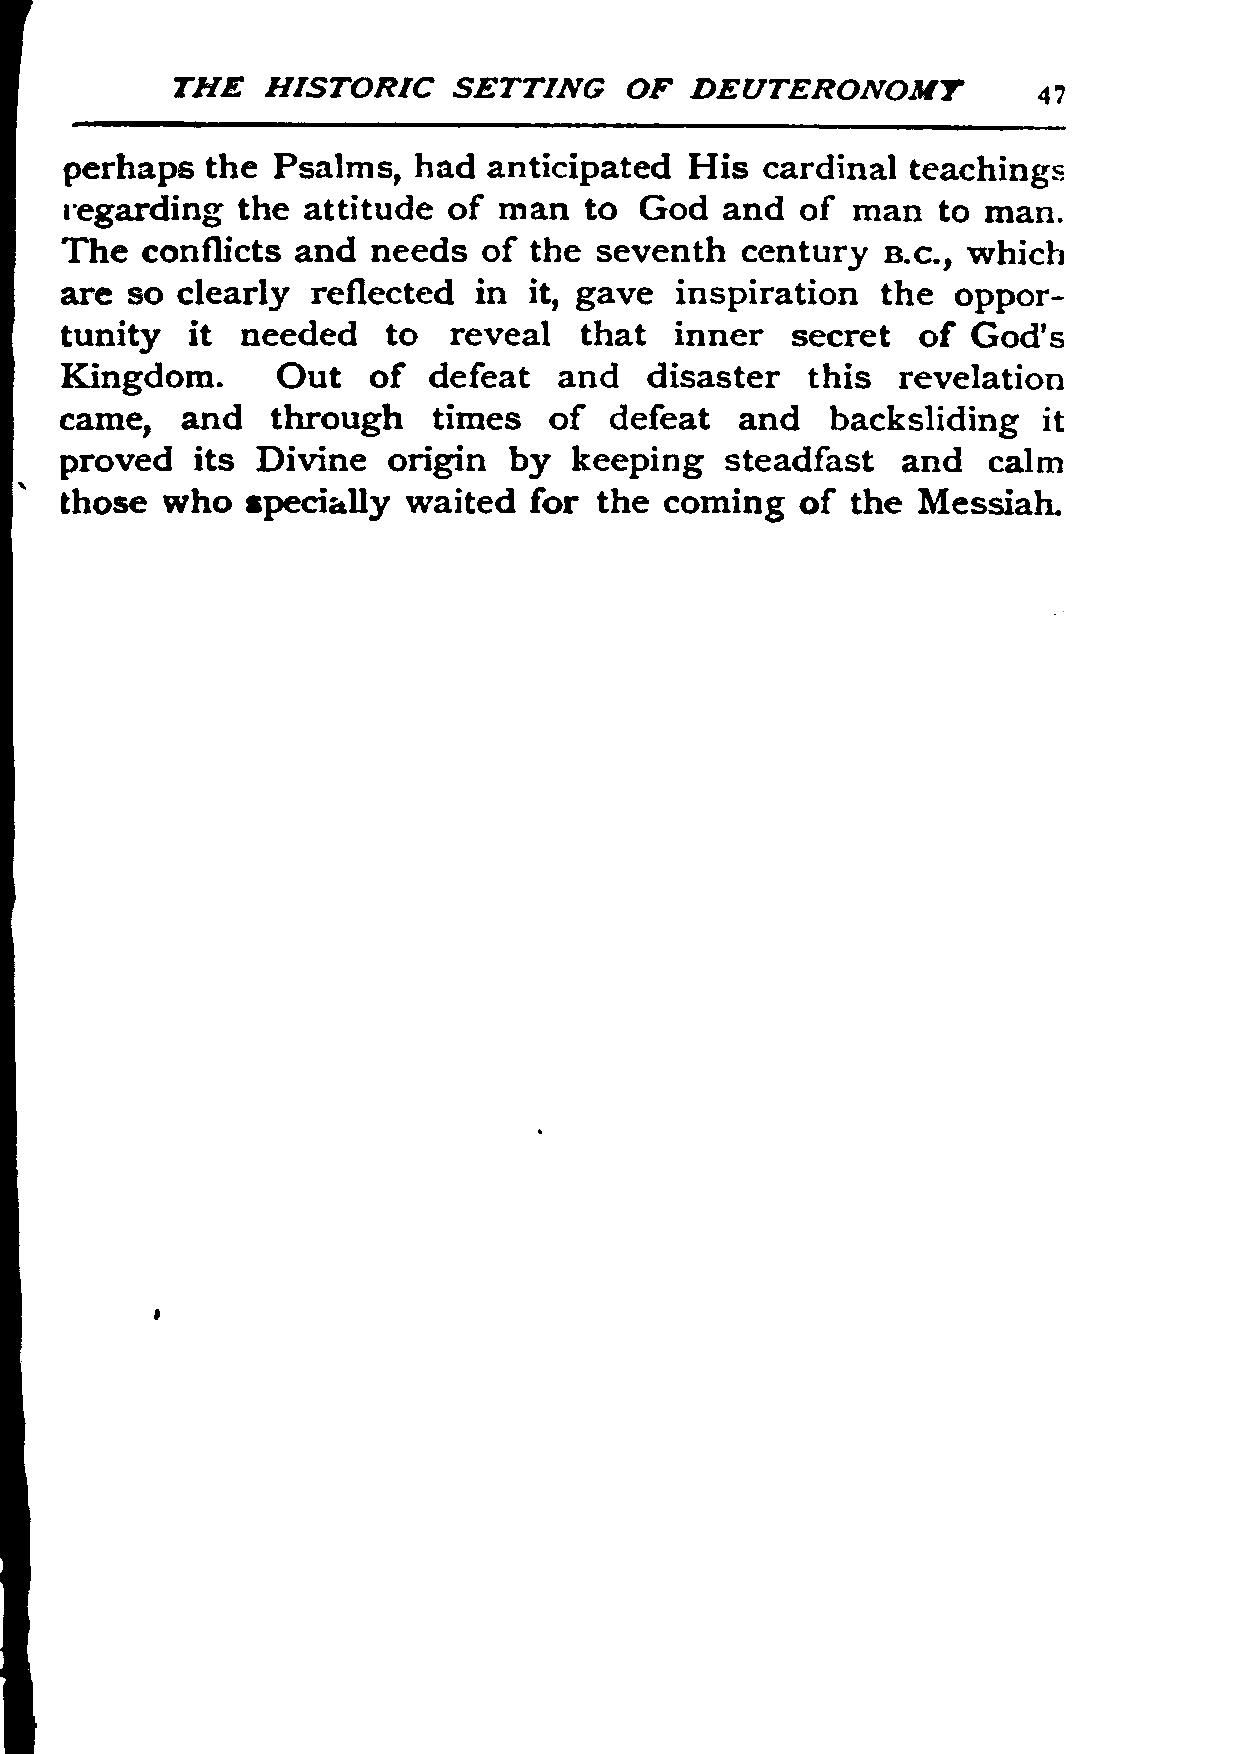content: (55, 152, 1070, 523)
content_chapter: (169, 68, 964, 107)
content_pagenumber: (1033, 74, 1066, 111)
